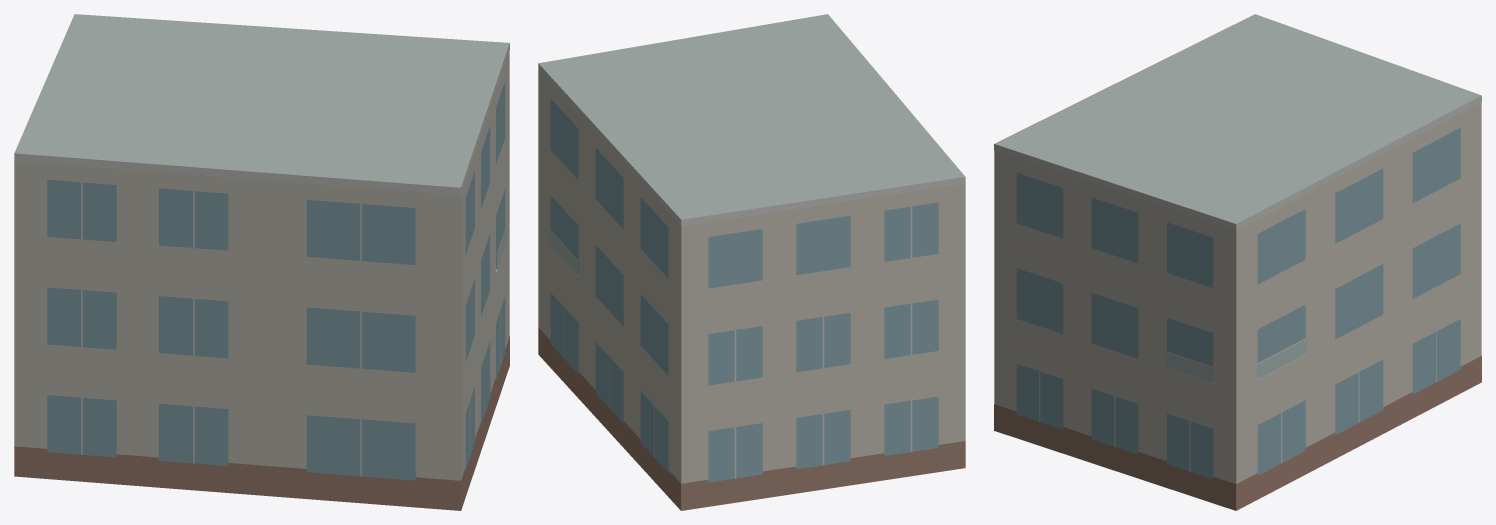
The model's file is survey-upis-32534664.glb.
3 renders of one model, left to right at view 1: azimuth 30°, elevation 25°; view 2: azimuth 150°, elevation 25°; view 3: azimuth 270°, elevation 25°, orthographic. The views are drawn at different scales.
Visible parts, largest first — view 1: survey-upis-32534664.tmp; view 2: survey-upis-32534664.tmp; view 3: survey-upis-32534664.tmp.
Boxes of the visible parts, box(x1,y1,x2,y2) form: survey-upis-32534664.tmp: box(14, 14, 509, 510); survey-upis-32534664.tmp: box(538, 14, 965, 510); survey-upis-32534664.tmp: box(994, 14, 1481, 510).
Bounding box in the file's own units: 16.42 × 10.45 × 16.11.
